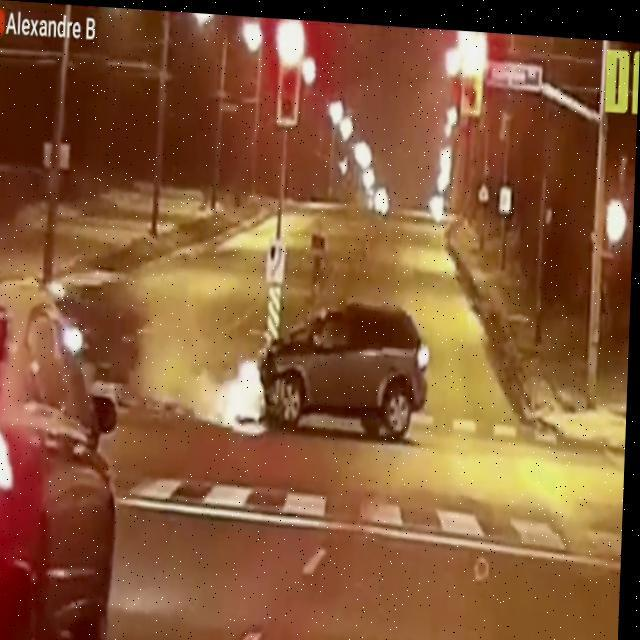normal: (0, 210, 152, 640)
single accident: (207, 258, 442, 470)
